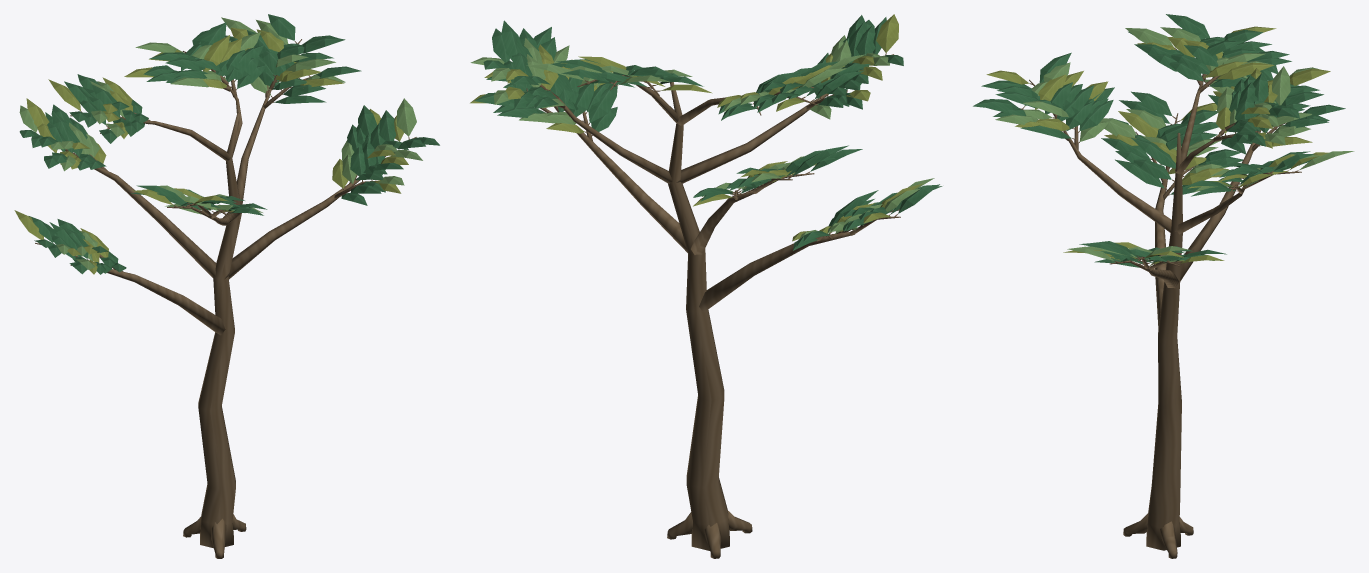
File: AST-BOT-001.glb
3 views of the same model, side by side, from view 1: azimuth 30°, elevation 25°; view 2: azimuth 150°, elevation 25°; view 3: azimuth 270°, elevation 25° (orthographic). The views are drawn at different scales.
Visible parts, largest first — view 1: ASTRAEA_canopy_botanical_leaf_jade, ASTRAEA_canopy_botanical_bark, ASTRAEA_canopy_botanical_leaf_olive, ASTRAEA_canopy_botanical_leaf_sage; view 2: ASTRAEA_canopy_botanical_bark, ASTRAEA_canopy_botanical_leaf_jade, ASTRAEA_canopy_botanical_leaf_sage, ASTRAEA_canopy_botanical_leaf_olive; view 3: ASTRAEA_canopy_botanical_leaf_jade, ASTRAEA_canopy_botanical_bark, ASTRAEA_canopy_botanical_leaf_olive, ASTRAEA_canopy_botanical_leaf_sage.
Boxes of the visible parts, bbox=[...] form: ASTRAEA_canopy_botanical_leaf_jade: bbox=[19, 14, 439, 274]; ASTRAEA_canopy_botanical_bark: bbox=[35, 39, 416, 558]; ASTRAEA_canopy_botanical_leaf_olive: bbox=[14, 27, 408, 274]; ASTRAEA_canopy_botanical_leaf_sage: bbox=[19, 17, 422, 269]; ASTRAEA_canopy_botanical_bark: bbox=[523, 53, 900, 558]; ASTRAEA_canopy_botanical_leaf_jade: bbox=[474, 15, 942, 250]; ASTRAEA_canopy_botanical_leaf_sage: bbox=[470, 35, 934, 239]; ASTRAEA_canopy_botanical_leaf_olive: bbox=[470, 14, 923, 241]; ASTRAEA_canopy_botanical_leaf_jade: bbox=[973, 14, 1345, 267]; ASTRAEA_canopy_botanical_bark: bbox=[1019, 47, 1301, 558]; ASTRAEA_canopy_botanical_leaf_olive: bbox=[986, 26, 1330, 265]; ASTRAEA_canopy_botanical_leaf_sage: bbox=[995, 27, 1354, 263].
Size of the model in its own units: 2.39 by 2.69 by 2.01.
Materials: 4 (4 with a texture image).
